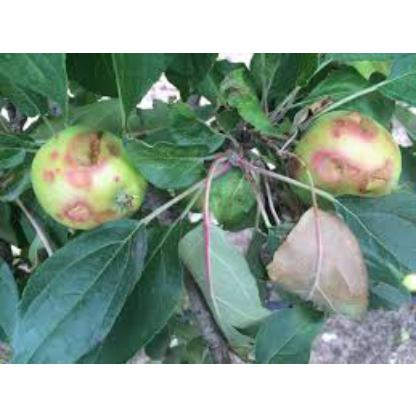damaged_apple: (26, 121, 152, 227), (286, 113, 404, 209)
